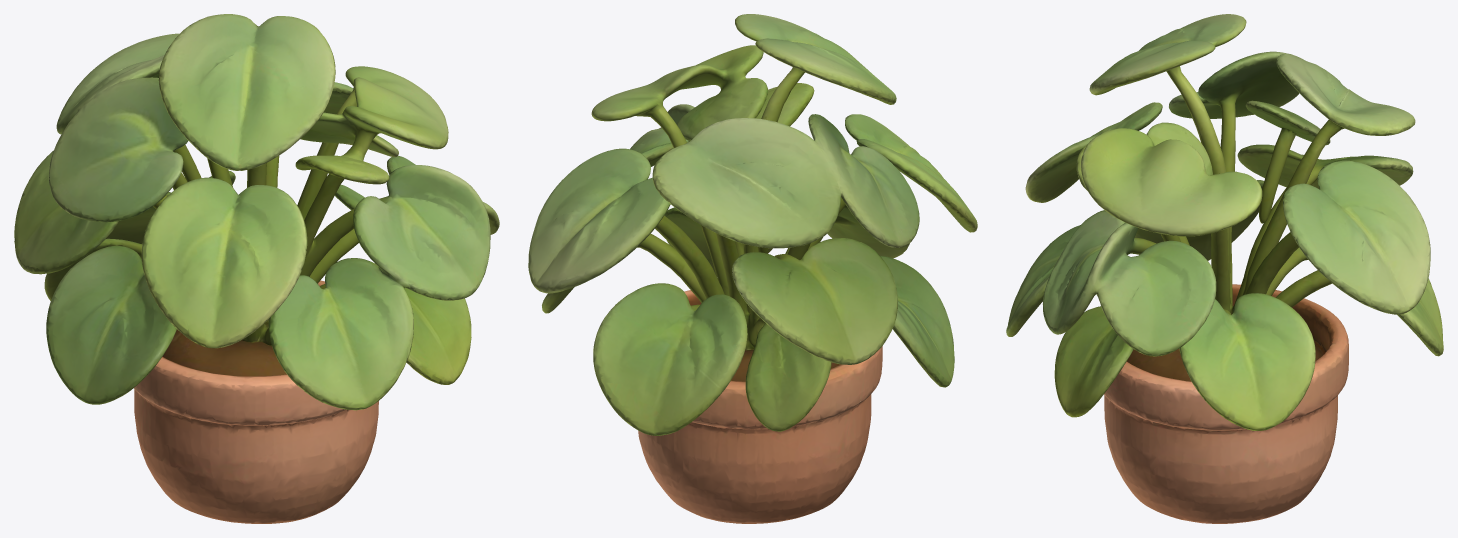
The model's file is plant2.glb.
3 views of the same model, side by side, from view 1: azimuth 30°, elevation 25°; view 2: azimuth 150°, elevation 25°; view 3: azimuth 270°, elevation 25° (orthographic). The views are drawn at different scales.
Parts seen in each view (by area): view 1: tripo_node_d715e2b0-ecc2-44d7-9f0c-660af5bfabee; view 2: tripo_node_d715e2b0-ecc2-44d7-9f0c-660af5bfabee; view 3: tripo_node_d715e2b0-ecc2-44d7-9f0c-660af5bfabee.
Part boxes in pixels (box(x1,y1,x2,y2)): tripo_node_d715e2b0-ecc2-44d7-9f0c-660af5bfabee: box(14, 14, 499, 523); tripo_node_d715e2b0-ecc2-44d7-9f0c-660af5bfabee: box(528, 14, 977, 523); tripo_node_d715e2b0-ecc2-44d7-9f0c-660af5bfabee: box(1006, 14, 1443, 523).
Size of the model in its own units: 0.8695 by 0.9999 by 0.8708.
1 material, 1 textured.
